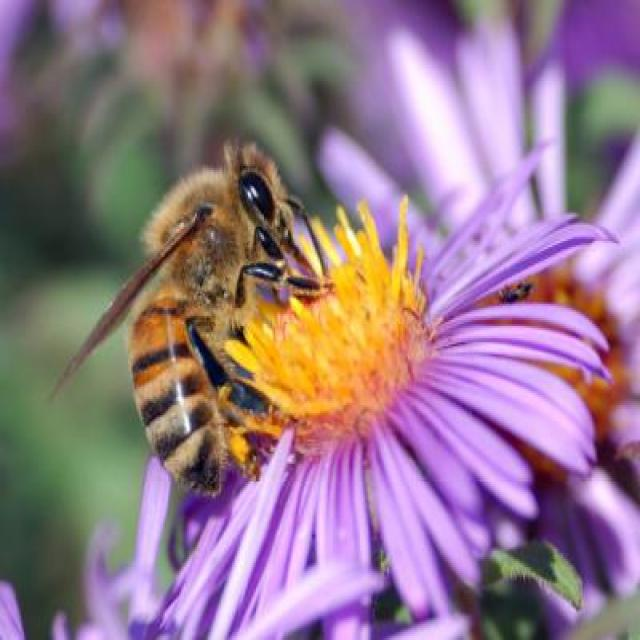antennae: (283, 192, 335, 272)
body: (131, 142, 295, 499)
insect: (42, 136, 348, 504)
legs: (182, 306, 274, 426), (207, 266, 339, 321), (244, 230, 296, 272)
mouthpart: (267, 216, 294, 251)
wings: (45, 206, 206, 409)
